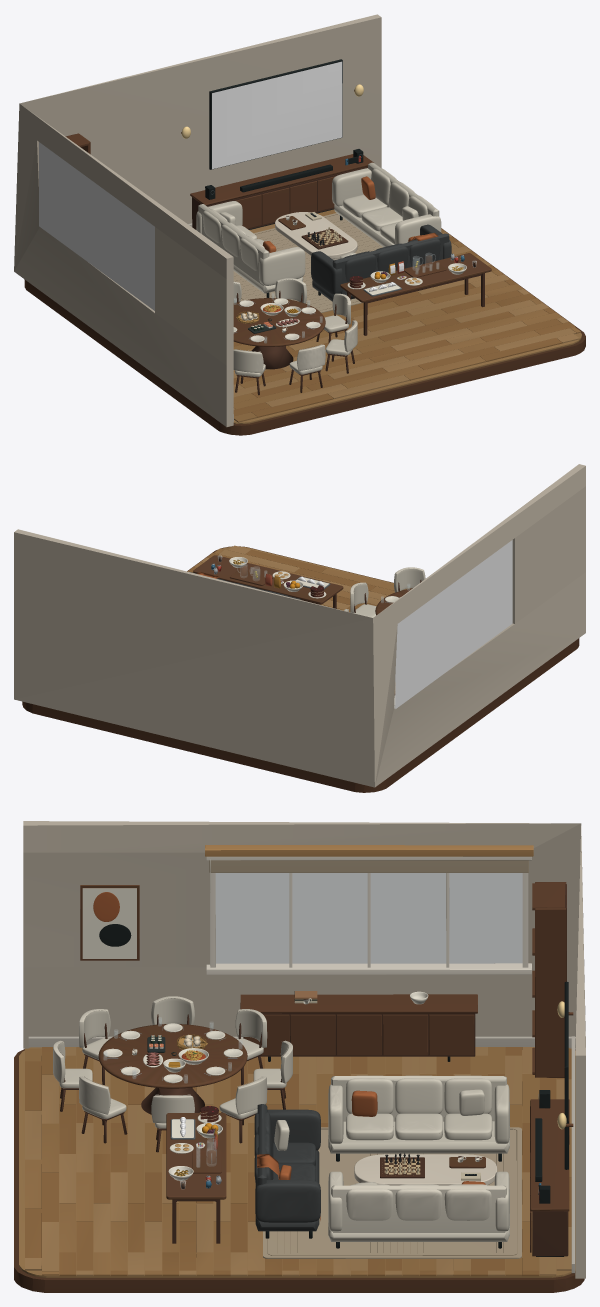
The model's file is sams-potluck.glb.
3 renders of one model, top to bottom at view 1: azimuth 30°, elevation 25°; view 2: azimuth 150°, elevation 25°; view 3: azimuth 270°, elevation 25°, orthographic. The views are drawn at different scales.
Parts seen in each view (by area): view 1: Sam's potluck; view 2: Sam's potluck; view 3: Sam's potluck.
Part boxes in pixels (bbox=[...]): Sam's potluck: bbox=[14, 14, 585, 435]; Sam's potluck: bbox=[14, 464, 585, 792]; Sam's potluck: bbox=[14, 821, 585, 1292].
Bounding box in the file's own units: 8.39 × 3.92 × 8.6.
